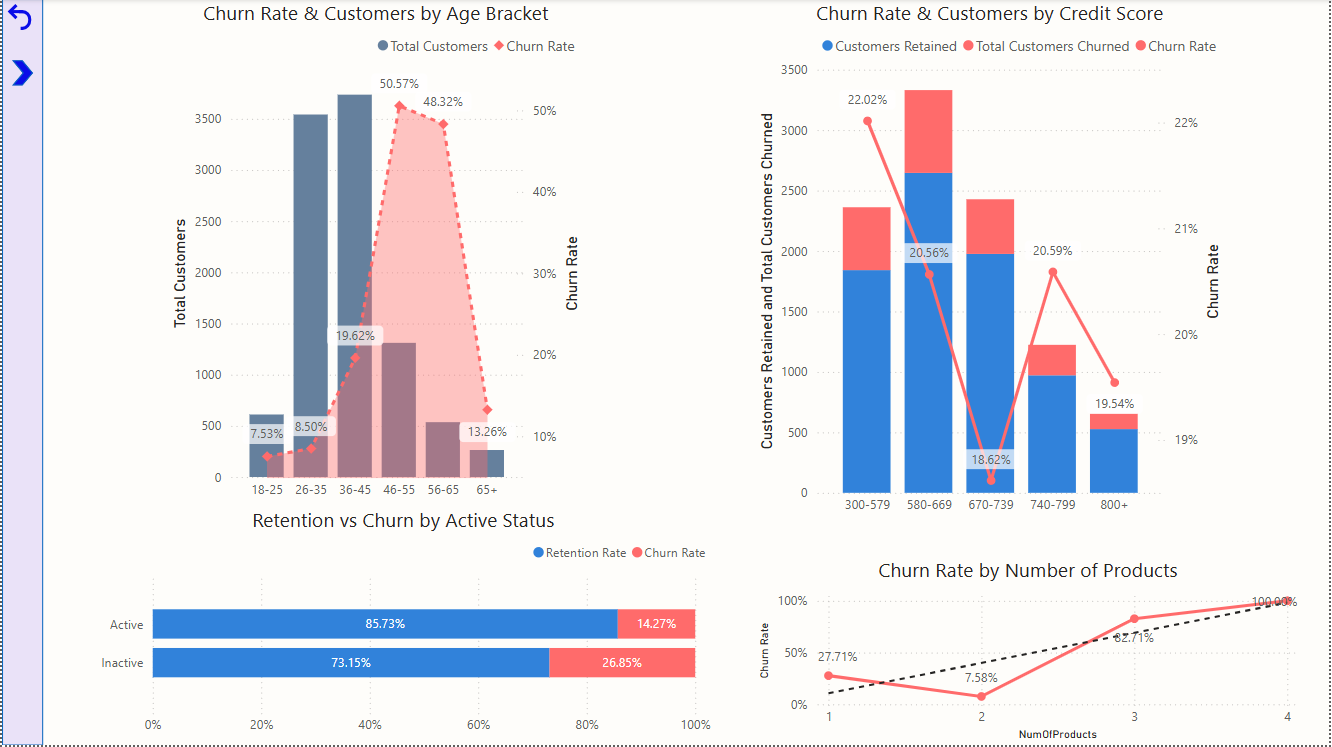

The page's visual inventory and layout, read from the dashboard file:
{"tool":"powerbi","page":{"name":"Churn Overview","canvas":[1280,720],"ordinal":1},"visuals":[{"type":"shape","box":[0,0,39.7,720.5],"z":0},{"type":"lineChart","title":"Churn Rate by Number of Products","fields":{"Category":["Bank_Churn.NumOfProducts"],"Y":["Measure Table.Churn Rate"]},"box":[725.5,537.8,530.6,182.7],"z":1000},{"type":"barChart","title":"Retention vs Churn by Active Status","fields":{"Category":["Bank_Churn.Active Status"],"Y":["Measure Table.Retention Rate","Measure Table.Churn Rate"]},"box":[85.9,490.2,603.3,229.3],"z":2000},{"type":"lineStackedColumnComboChart","title":"Churn Rate & Customers by Credit Score","fields":{"Y":["Measure Table.Customers Retained","Measure Table.Total Customers Churned"],"Y2":["Measure Table.Churn Rate"],"Category":["Bank_Churn.Credit Score"]},"box":[725,0,456.7,506.7],"z":3000},{"type":"lineClusteredColumnComboChart","title":"Churn Rate & Customers by Age Bracket","fields":{"Y2":["Measure Table.Churn Rate"],"Y":["Measure Table.Total Customers"],"Category":["Bank_Churn.Age Bracket"]},"box":[159.8,0,403.3,491.3],"z":4000},{"type":"actionButton","box":[0,0,63.3,34.7],"z":5000},{"type":"shape","box":[9.2,59.2,20.4,24.5],"z":6000}]}

Visuals, with their boxes on the page's 1280x720 design canvas (x1, y1, x2, y2). These are canvas units, not pixel positions in the 1332x747 screenshot, which may show the page scaled, cropped or inside an application window:
shape: 0:0:40:720
"Churn Rate by Number of Products" lineChart: 726:538:1256:720
"Retention vs Churn by Active Status" barChart: 86:490:689:720
"Churn Rate & Customers by Credit Score" lineStackedColumnComboChart: 725:0:1182:507
"Churn Rate & Customers by Age Bracket" lineClusteredColumnComboChart: 160:0:563:491
actionButton: 0:0:63:35
shape: 9:59:30:84
